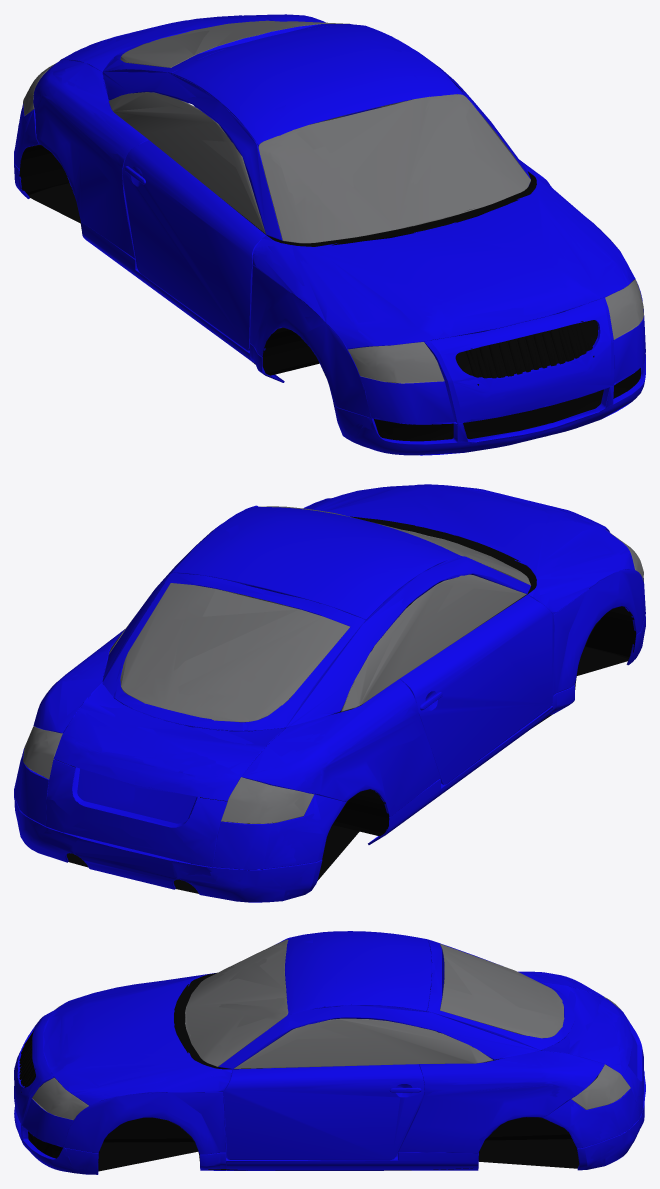
File: CarLowLOD.fbx
3 views of the same model, one above another, from view 1: azimuth 30°, elevation 25°; view 2: azimuth 150°, elevation 25°; view 3: azimuth 270°, elevation 25° (orthographic). The views are drawn at different scales.
Visible parts, largest first — view 1: Багажник, Крыша.001; view 2: Багажник, Крыша.001; view 3: Багажник, Крыша.001.
Part boxes in pixels (bbox=[...]): Багажник: bbox=[14, 14, 645, 455]; Крыша.001: bbox=[172, 25, 463, 145]; Багажник: bbox=[14, 484, 645, 902]; Крыша.001: bbox=[173, 506, 462, 619]; Багажник: bbox=[14, 933, 645, 1174]; Крыша.001: bbox=[285, 931, 431, 1015].
Size of the model in its own units: 176 by 115 by 404.
